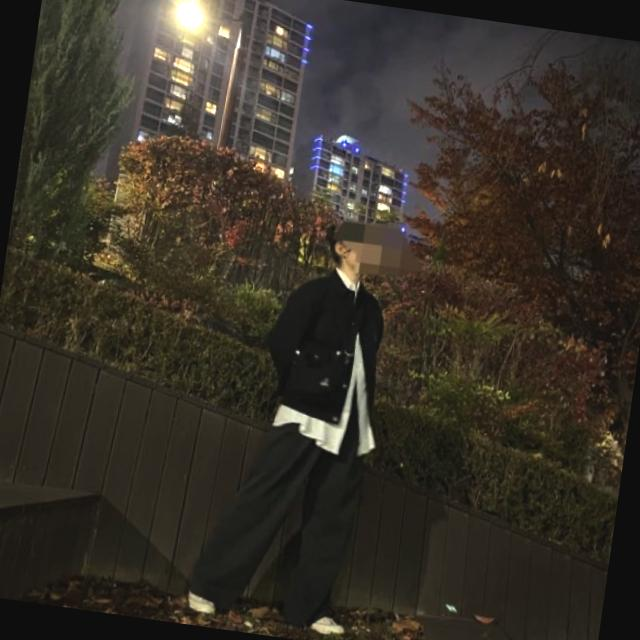jacket: (259, 268, 397, 432)
slacks: (182, 408, 370, 632)
